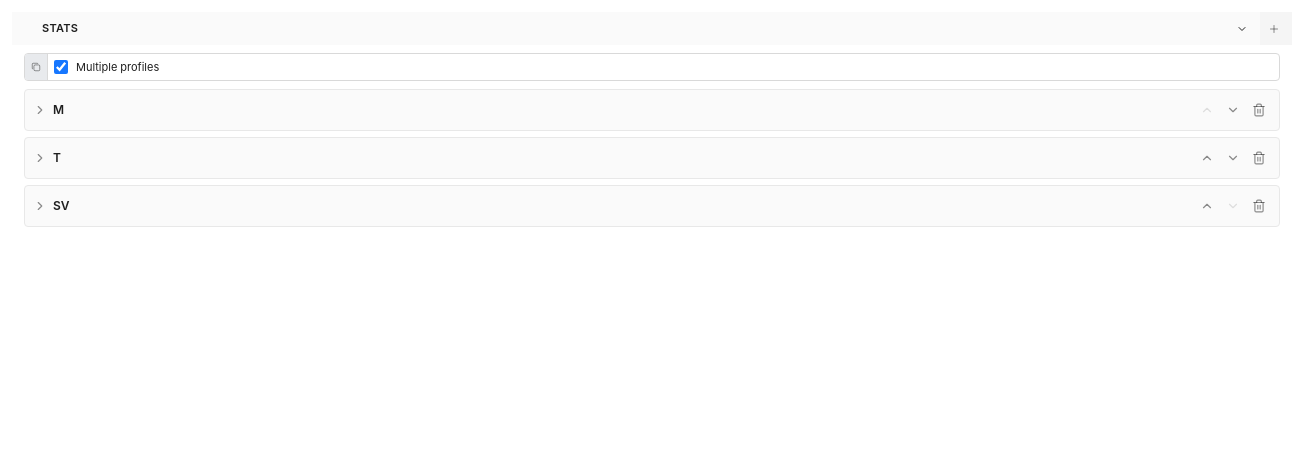
StatsSchemaEditor › renders all stat fields
Expected: the text "M" is shown, [53,101,64,120]
Expected: the text "T" is shown, [53,149,61,168]
Click the button "M".
click(40, 110)  # box [33,99,1189,122]
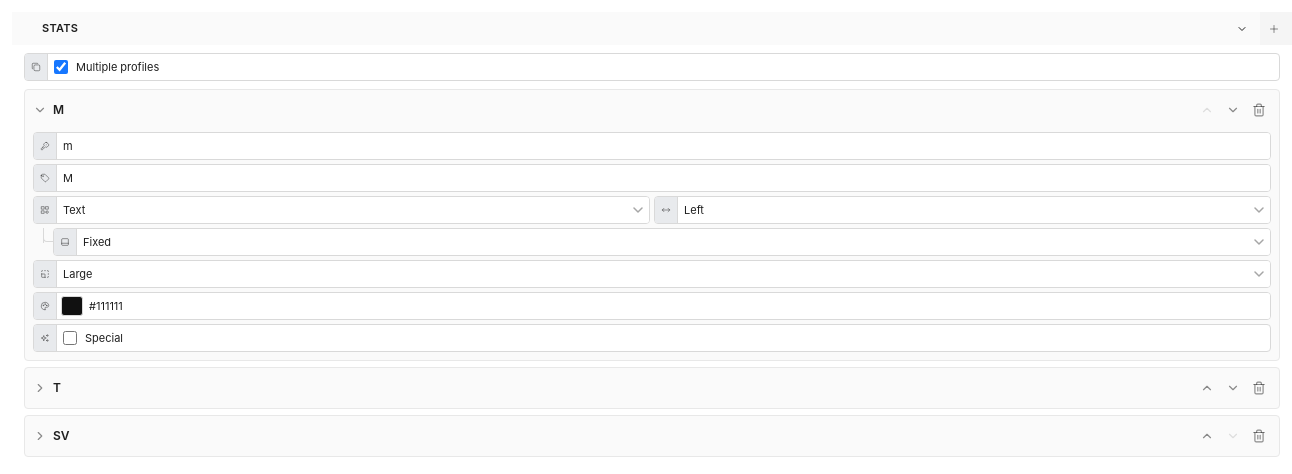
Expected: the field showing "M" is shown, [57,165,1270,191]
